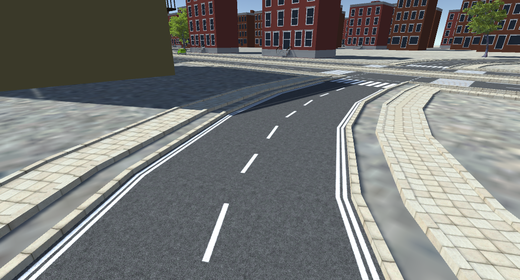centerstrip: (194, 124, 281, 259), (285, 85, 348, 121)
sidestripe: (20, 144, 180, 278), (333, 102, 385, 279), (180, 93, 276, 146)
